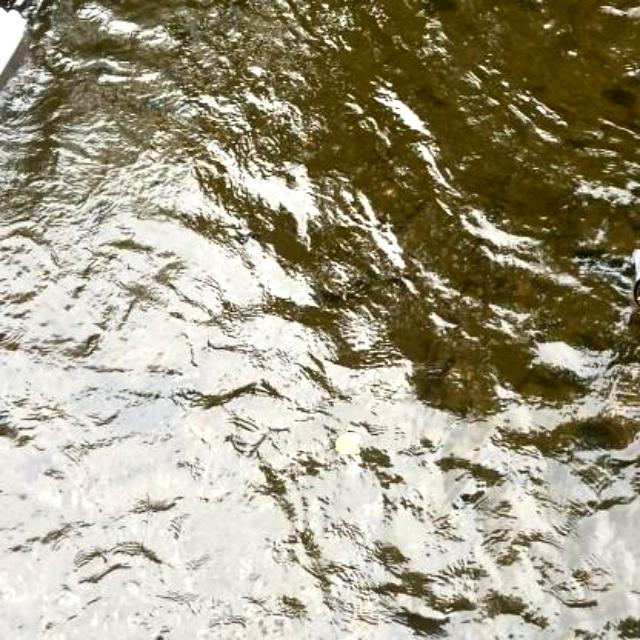Plastic: (0, 4, 32, 84)
